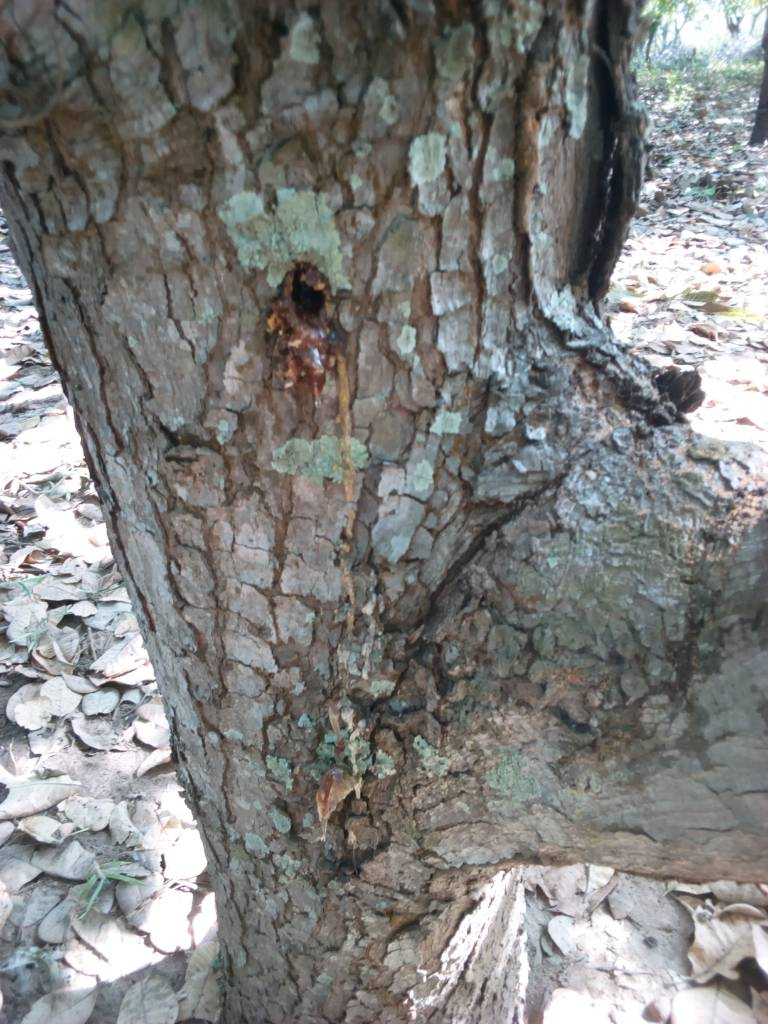Apate terebrans: (254, 230, 375, 369)
